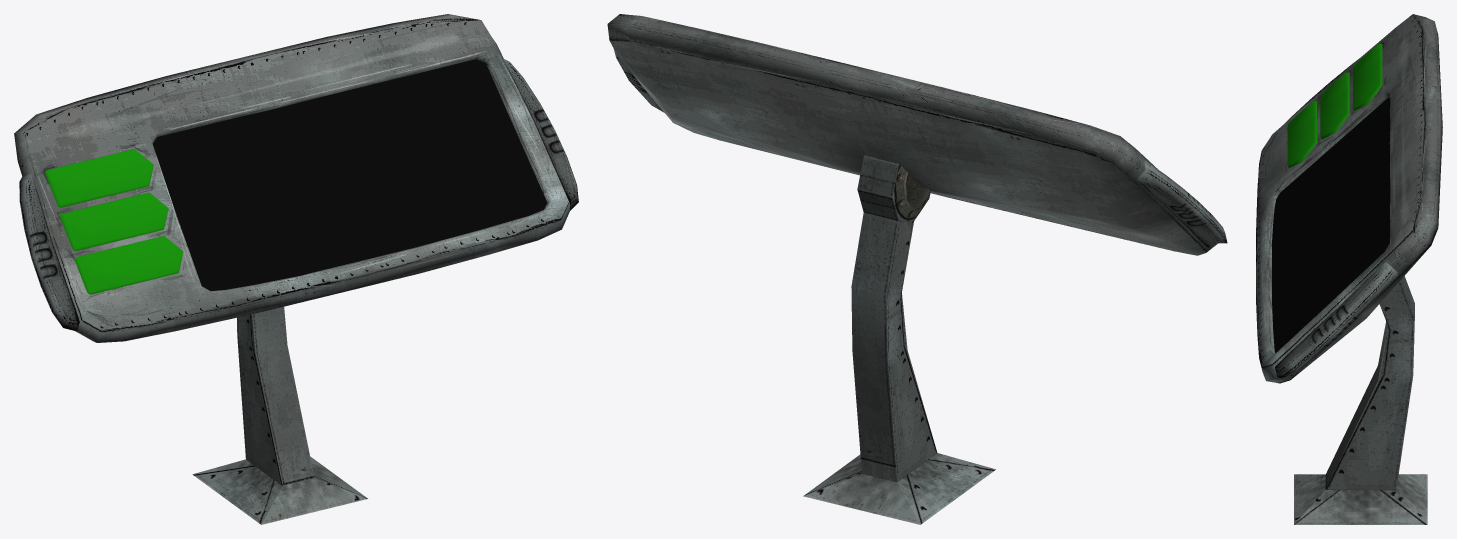
File: Control_Panel_wTilt.fbx
The picture shows the model from 3 angles, left to right: view 1: azimuth 30°, elevation 25°; view 2: azimuth 150°, elevation 25°; view 3: azimuth 270°, elevation 25°; orthographic projection. The views are drawn at different scales.
Parts seen in each view (by area): view 1: Frame, Control_Surface, Base, Button_A, Button_C, Button_B; view 2: Frame, Base; view 3: Frame, Control_Surface, Base, Button_C, Button_B, Button_A.
Part boxes in pixels (bbox=[...]): Frame: bbox=[14, 14, 578, 342]; Control_Surface: bbox=[152, 59, 547, 291]; Base: bbox=[192, 306, 367, 524]; Button_A: bbox=[45, 149, 153, 207]; Button_C: bbox=[74, 236, 183, 294]; Button_B: bbox=[59, 192, 168, 251]; Frame: bbox=[607, 14, 1227, 255]; Base: bbox=[803, 155, 995, 524]; Frame: bbox=[1256, 14, 1442, 383]; Control_Surface: bbox=[1272, 98, 1390, 353]; Base: bbox=[1294, 276, 1427, 524]; Button_C: bbox=[1287, 101, 1316, 168]; Button_B: bbox=[1320, 72, 1349, 139]; Button_A: bbox=[1353, 44, 1382, 111].
Bounding box in the file's own units: 0.5969 × 0.4352 × 0.1895.
